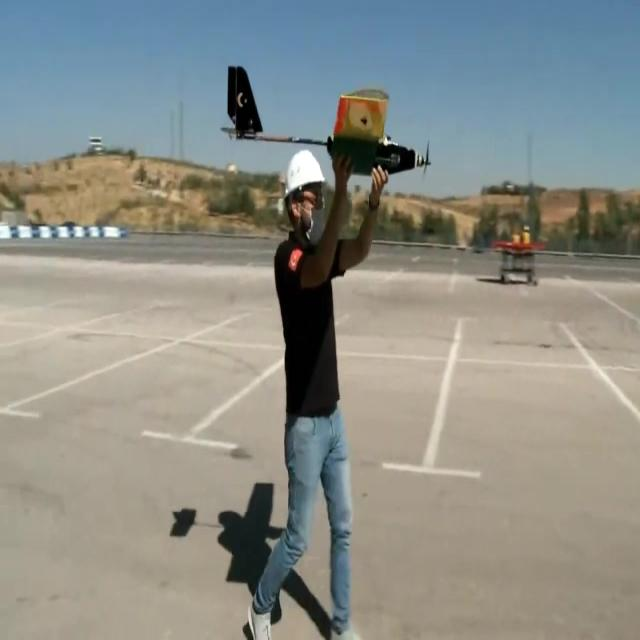iha: (220, 32, 431, 83)
